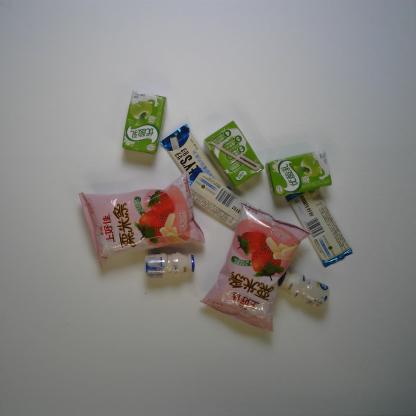Chocolate: (283, 181, 354, 268), (159, 122, 232, 190), (191, 164, 253, 230)
Milk: (202, 118, 266, 189), (266, 147, 334, 198), (120, 89, 167, 156), (278, 269, 332, 311), (144, 248, 196, 279)
Puffed Food: (198, 202, 313, 333), (77, 169, 207, 270)
